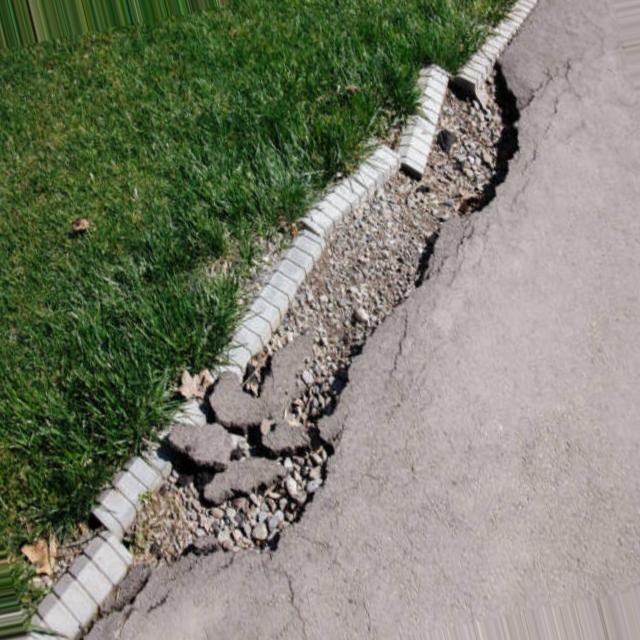Pinggir: (43, 20, 532, 581)
